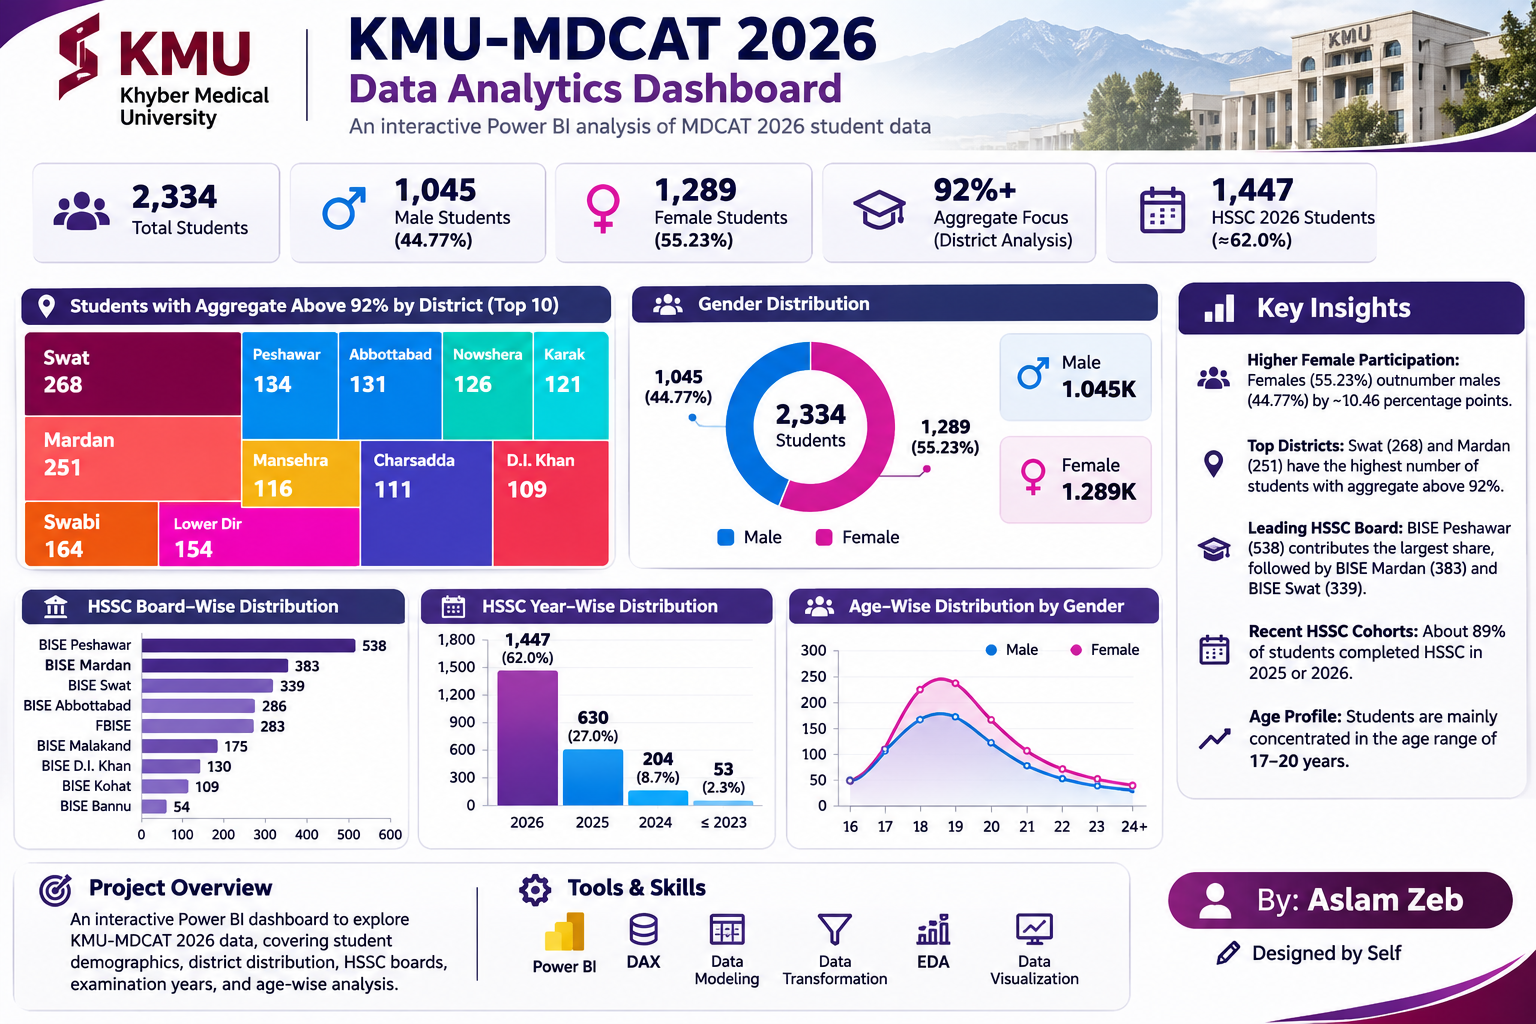

The dashboard page shown, as its layout file describes it:
{"tool":"powerbi","page":{"name":"Page 1","canvas":[1920,1080],"ordinal":0},"visuals":[{"type":"treemap","fields":{"Group":["MBBS Open Merit.Domicile"],"Values":["CountNonNull(MBBS Open Merit.Domicile)"]},"box":[0,0,894.4,882.5],"z":0},{"type":"pivotTable","fields":{"Columns":["MBBS Open Merit.Domicile"],"Rows":["MBBS Open Merit.M_F"],"Values":["CountNonNull(MBBS Open Merit.M_F)"]},"box":[0,895.7,1765,184.2],"z":1000},{"type":"actionButton","box":[0,0,100,40],"z":2000},{"type":"pivotTable","fields":{"Rows":["MBBS Open Merit.HSSC Year"],"Values":["CountNonNull(MBBS Open Merit.Domicile)"]},"box":[1502.6,352.5,262.4,367],"z":3000},{"type":"clusteredBarChart","title":"HSSC Board-Wise Data","fields":{"Category":["MBBS Open Merit.HSSC Board"],"Y":["CountNonNull(MBBS Open Merit.HSSC Board)"]},"box":[906.3,352.5,377.9,366.2],"z":4000},{"type":"pivotTable","fields":{"Columns":["MBBS Open Merit.MDCAT Marks"],"Rows":["MBBS Open Merit.M_F"],"Values":["CountNonNull(MBBS Open Merit.M_F)"]},"box":[906.3,726.1,858.6,164.3],"z":5000},{"type":"slicer","title":"District","fields":{"Values":["MBBS Open Merit.Domicile"]},"box":[1770.1,0,149.9,1079.2],"z":6000},{"type":"donutChart","title":"No. Of Male And Female","fields":{"Category":["MBBS Open Merit.M_F"],"Y":["CountNonNull(MBBS Open Merit.M_F)"]},"box":[1290.6,0,474.4,343.2],"z":7000},{"type":"cardVisual","fields":{"Data":["MBBS Open Merit.Male"]},"box":[1290.6,352.5,204.1,180.2],"z":8000},{"type":"cardVisual","fields":{"Data":["MBBS Open Merit.Female"]},"box":[1290.6,536.6,204.1,182.9],"z":9000},{"type":"image","box":[894.4,23.9,377.6,295.5],"z":9001}]}

Visuals, with their boxes on the page's 1920x1080 design canvas (x1, y1, x2, y2). These are canvas units, not pixel positions in the 1536x1024 screenshot, which may show the page scaled, cropped or inside an application window:
treemap - MBBS Open Merit.Domicile x CountNonNull(MBBS Open Merit.Domicile): BBox(0, 0, 894, 882)
pivotTable - MBBS Open Merit.Domicile x MBBS Open Merit.M_F: BBox(0, 896, 1765, 1080)
actionButton: BBox(0, 0, 100, 40)
pivotTable - MBBS Open Merit.HSSC Year x CountNonNull(MBBS Open Merit.Domicile): BBox(1503, 352, 1765, 720)
"HSSC Board-Wise Data" clusteredBarChart: BBox(906, 352, 1284, 719)
pivotTable - MBBS Open Merit.MDCAT Marks x MBBS Open Merit.M_F: BBox(906, 726, 1765, 890)
"District" slicer: BBox(1770, 0, 1920, 1079)
"No. Of Male And Female" donutChart: BBox(1291, 0, 1765, 343)
cardVisual - MBBS Open Merit.Male: BBox(1291, 352, 1495, 533)
cardVisual - MBBS Open Merit.Female: BBox(1291, 537, 1495, 720)
image: BBox(894, 24, 1272, 319)
